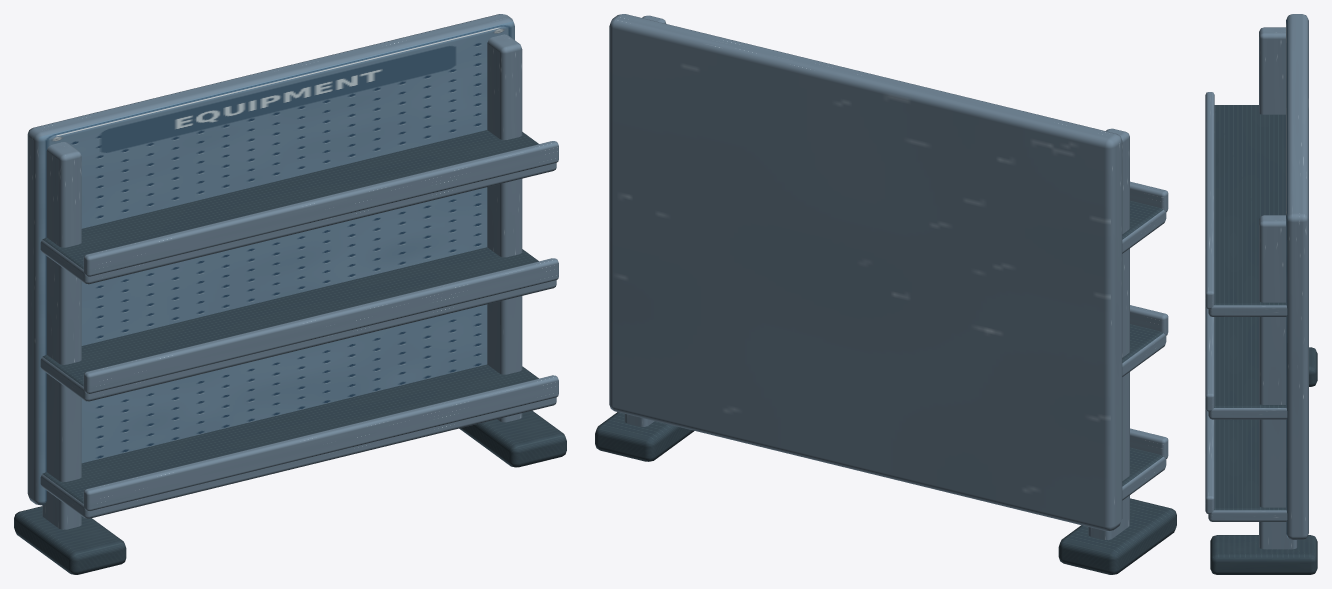
The model's file is SM_WeaponRack.glb.
3 views of the same model, side by side, from view 1: azimuth 30°, elevation 25°; view 2: azimuth 150°, elevation 25°; view 3: azimuth 270°, elevation 25° (orthographic). The views are drawn at different scales.
Parts seen in each view (by area): view 1: SM_WeaponRack; view 2: SM_WeaponRack; view 3: SM_WeaponRack.
Part boxes in pixels (x1,y1,x2,y2): SM_WeaponRack: (14,14,566,574); SM_WeaponRack: (595,14,1176,574); SM_WeaponRack: (1205,14,1317,574).
Bounding box in the file's own units: 2.62 × 2.06 × 0.585.
Materials: 1 (1 with a texture image).
